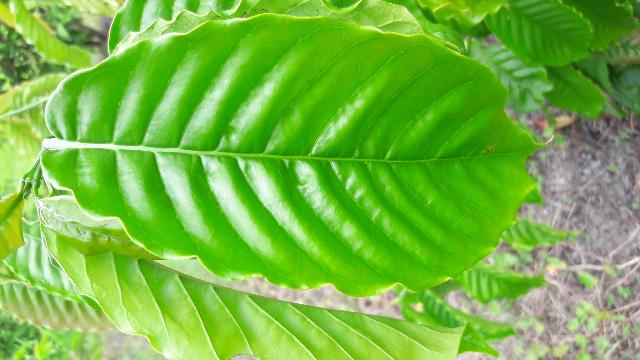rust_level_1: (39, 14, 557, 298)
